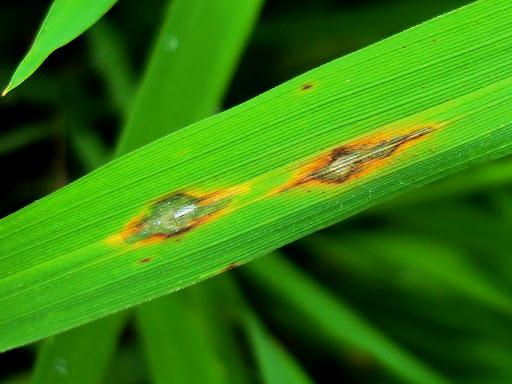1 RiceBlast: (294, 117, 449, 188), (118, 178, 245, 230)
